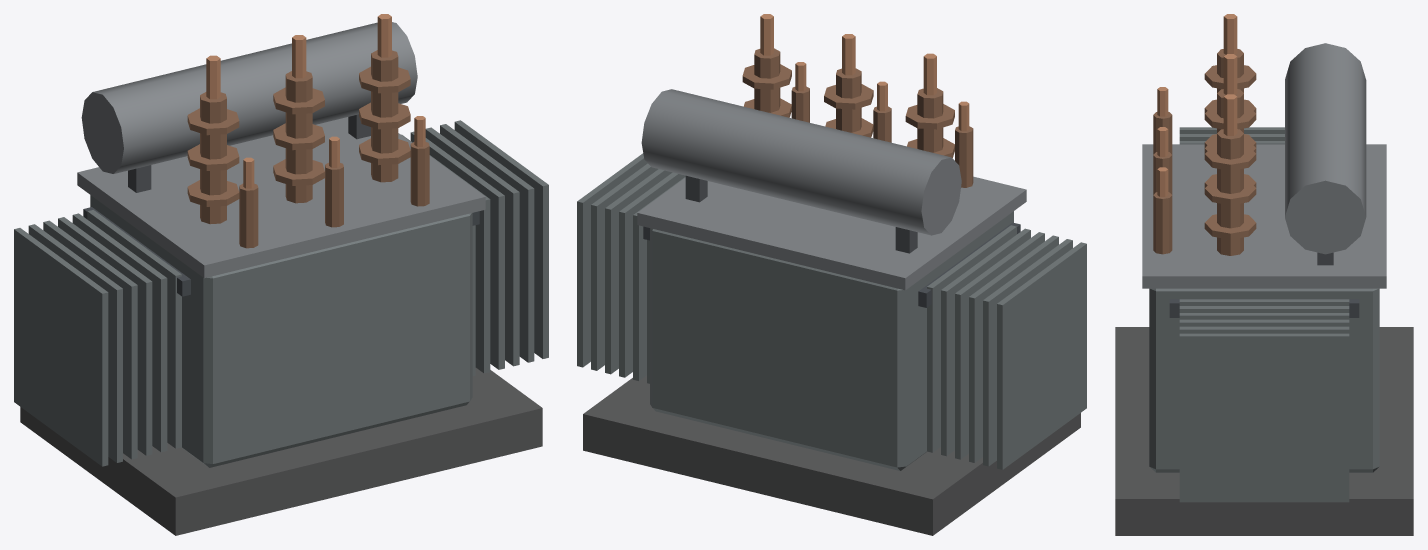
Rendered from transformer.glb.
The picture shows the model from 3 angles, left to right: view 1: azimuth 30°, elevation 25°; view 2: azimuth 150°, elevation 25°; view 3: azimuth 270°, elevation 25°; orthographic projection. The views are drawn at different scales.
Parts seen in each view (by area): view 1: tank; view 2: tank; view 3: tank.
Part boxes in pixels (<box>): tank: <box>14,14,548,535</box>; tank: <box>577,14,1086,535</box>; tank: <box>1115,14,1413,535</box>.
Size of the model in its own units: 3.65 by 3.2 by 2.2.
